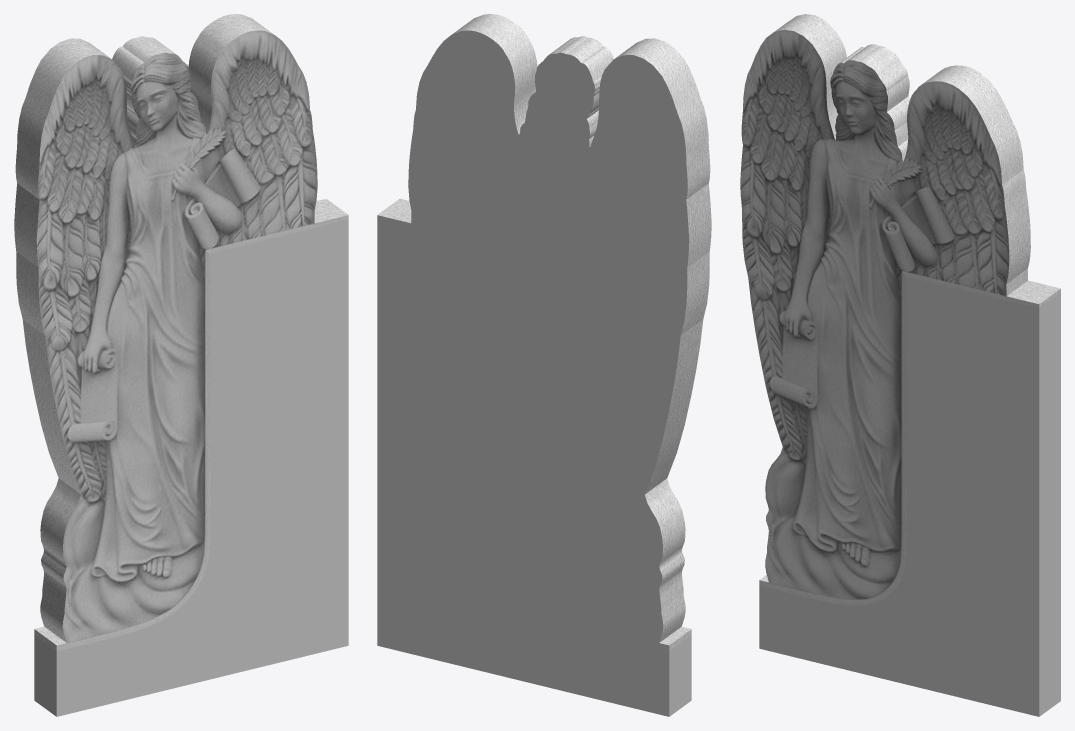
Rendered from cn7d07a5e106_tkf.glb.
The picture shows the model from 3 angles, left to right: view 1: azimuth 30°, elevation 25°; view 2: azimuth 150°, elevation 25°; view 3: azimuth 330°, elevation 25°; orthographic projection. The views are drawn at different scales.
Visible parts, largest first — view 1: Pam-d02-004_2_notexture, Pam-d02-004; view 2: Pam-d02-004, Pam-d02-004_2_notexture; view 3: Pam-d02-004_2_notexture, Pam-d02-004.
Boxes of the visible parts, x1,y1,x2,y2 form: Pam-d02-004_2_notexture: (14,14,348,651); Pam-d02-004: (34,220,348,716); Pam-d02-004: (377,30,691,716); Pam-d02-004_2_notexture: (378,14,711,650); Pam-d02-004_2_notexture: (740,14,1060,605); Pam-d02-004: (759,276,1060,716).
Size of the model in its own units: 0.4 by 0.8 by 0.05.
Materials: 1 (1 with a texture image).
